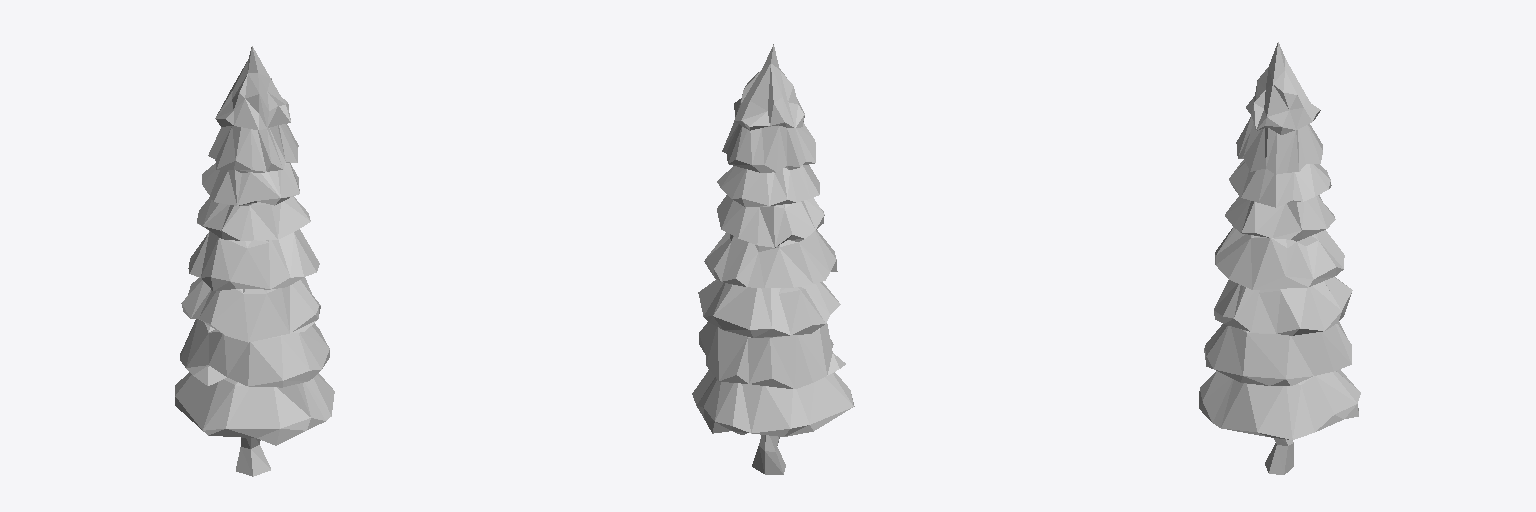
Rendered from _2_tree.obj.
3 renders of one model, left to right at view 1: azimuth 30°, elevation 25°; view 2: azimuth 150°, elevation 25°; view 3: azimuth 270°, elevation 25°, orthographic.
Bounding box in the file's own units: 0.8524 × 2.49 × 0.8631.